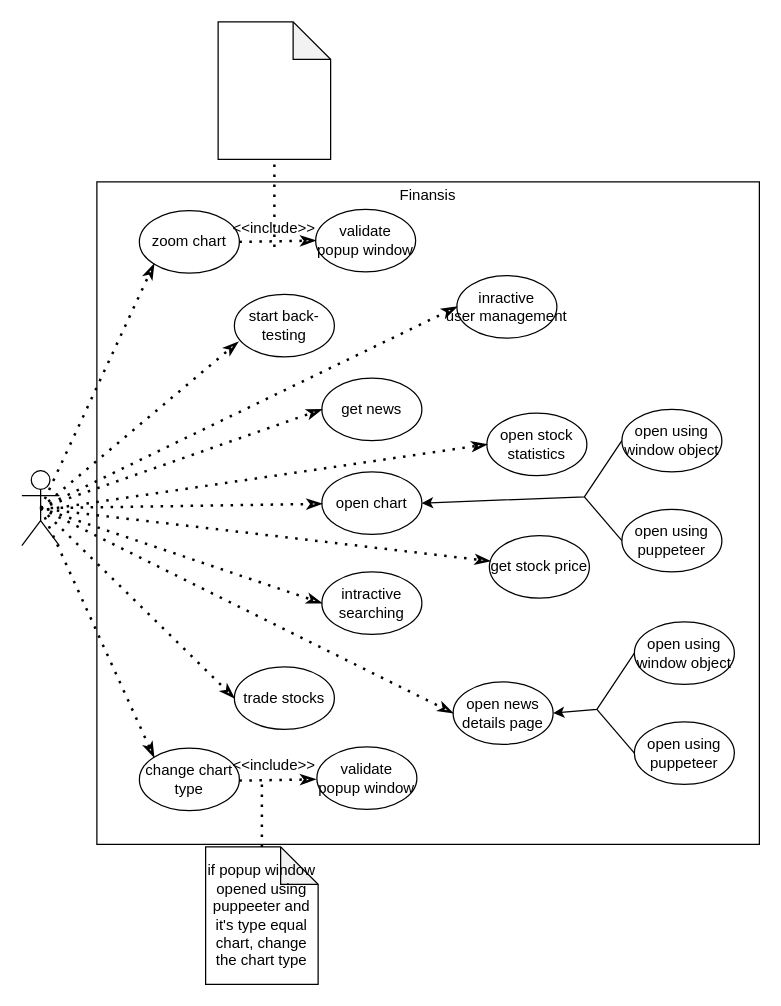
The diagram is 781 pixels wide and 1006 high, and some of its shapes have lost their labels. The box of each missing label's shape, as (x1, y1, x2, y2) in pixels:
if popup window opened using puppeeter and it's type equal chart, zoom the chart: (217, 21, 331, 159)
user: (21, 469, 59, 546)
